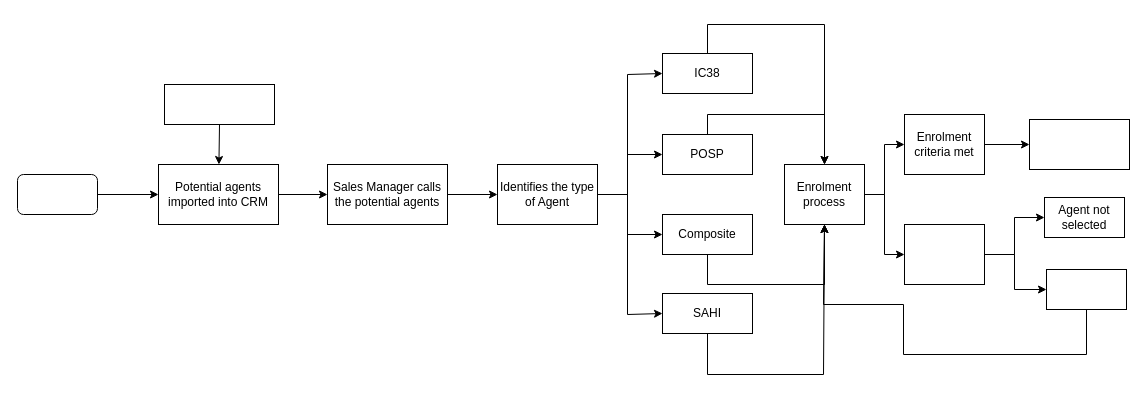
Some shapes in this 1147 by 400 pixel diagram are drawn without their labels. The shapes that lost their labels are listed below. From the top down, each one's centre as x and y in pixels, then its label:
At [219,104]: "Agent sourcing channels".
At [1079,144]: "Appointment letter & welcome mail".
At [57,194]: "Start".
At [944,254]: "Enrolment criteria not met".
At [1086,289]: "Additional details required".
